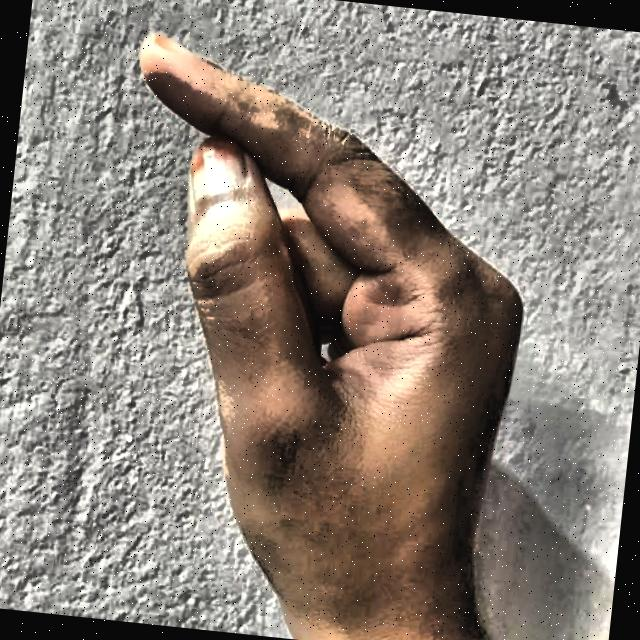Tha: (67, 7, 573, 640)
